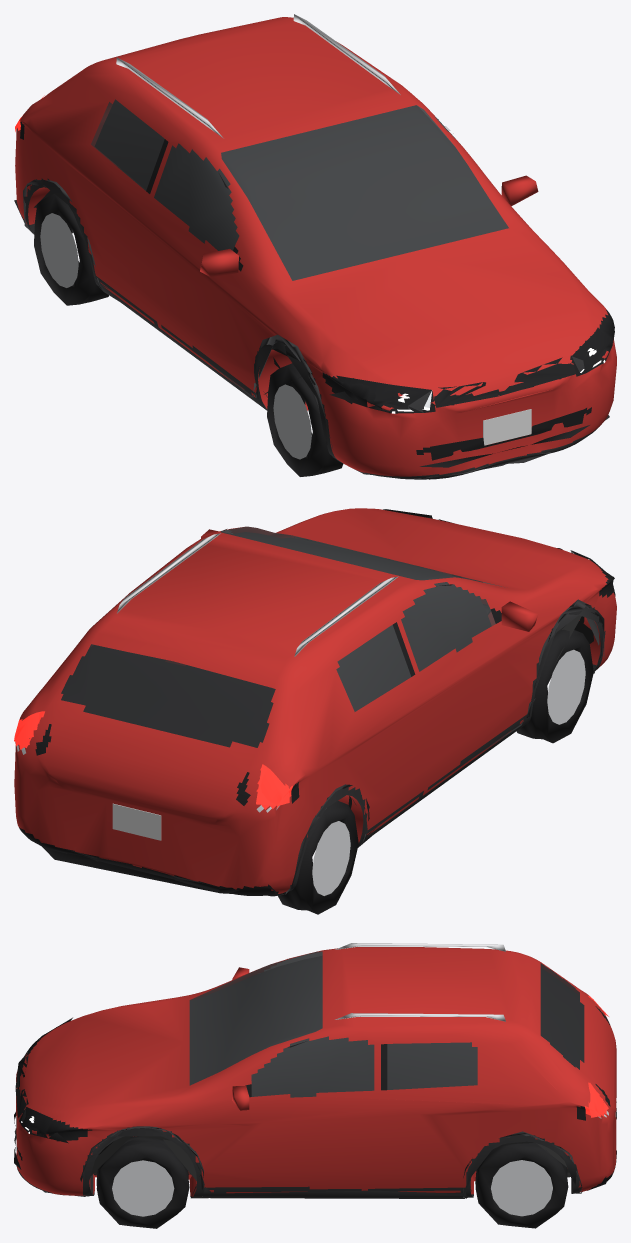
Rendered from compactHatchCross-lod2.glb.
3 views of the same model, one above another, from view 1: azimuth 30°, elevation 25°; view 2: azimuth 150°, elevation 25°; view 3: azimuth 270°, elevation 25° (orthographic). The views are drawn at different scales.
Parts seen in each view (by area): view 1: Body, Body_Lining, Body_Trim, Wheel_FR_Tyre, Wheel_RR_Tyre, Wheel_FR_Face, Wheel_RR_Face, PlateFront, Mirror_R_Housing, Mirror_L_Housing, RoofRail_R, RoofRail_L (+1 smaller); view 2: Body, Body_Lining, Body_Trim, Wheel_FR_Tyre, Wheel_RR_Tyre, Wheel_RR_Face, Wheel_FR_Face, PlateRear, Mirror_R_Housing, RoofRail_L, RoofRail_R, ArchCladdingEdgeF_R.000; view 3: Body, Body_Lining, Body_Trim, Wheel_FL_Tyre, Wheel_RL_Tyre, Wheel_RL_Face, Wheel_FL_Face, Arch_F_L_Liner, RoofRail_R, RoofRail_L, ArchCladdingEdgeF_L.000.
Part boxes in pixels (left/top/right/bottom): Body: left=15, top=17, right=616, bottom=479; Body_Lining: left=95, top=100, right=508, bottom=280; Body_Trim: left=14, top=95, right=614, bottom=479; Wheel_FR_Tyre: left=267, top=363, right=343, bottom=476; Wheel_RR_Tyre: left=34, top=194, right=108, bottom=305; Wheel_FR_Face: left=273, top=384, right=311, bottom=459; Wheel_RR_Face: left=40, top=213, right=78, bottom=287; PlateFront: left=483, top=409, right=531, bottom=445; Mirror_R_Housing: left=200, top=249, right=238, bottom=277; Mirror_L_Housing: left=501, top=175, right=538, bottom=206; RoofRail_R: left=116, top=57, right=223, bottom=138; RoofRail_L: left=293, top=14, right=400, bottom=94; Body: left=14, top=508, right=616, bottom=895; Body_Lining: left=63, top=532, right=490, bottom=746; Body_Trim: left=14, top=509, right=615, bottom=896; Wheel_FR_Tyre: left=516, top=629, right=593, bottom=743; Wheel_RR_Tyre: left=278, top=801, right=358, bottom=914; Wheel_RR_Face: left=312, top=821, right=350, bottom=895; Wheel_FR_Face: left=547, top=649, right=585, bottom=724; PlateRear: left=112, top=803, right=161, bottom=840; Mirror_R_Housing: left=501, top=601, right=538, bottom=631; RoofRail_L: left=117, top=533, right=220, bottom=613; RoofRail_R: left=294, top=576, right=398, bottom=656; ArchCladdingEdgeF_R.000: left=527, top=599, right=604, bottom=714; Body: left=16, top=947, right=616, bottom=1198; Body_Lining: left=190, top=956, right=583, bottom=1097; Body_Trim: left=14, top=996, right=616, bottom=1198; Wheel_FL_Tyre: left=96, top=1136, right=189, bottom=1228; Wheel_RL_Tyre: left=475, top=1143, right=568, bottom=1228; Wheel_RL_Face: left=491, top=1160, right=552, bottom=1216; Wheel_FL_Face: left=112, top=1160, right=174, bottom=1216; Arch_F_L_Liner: left=91, top=1136, right=196, bottom=1180; RoofRail_R: left=335, top=943, right=505, bottom=951; RoofRail_L: left=335, top=1013, right=505, bottom=1021; ArchCladdingEdgeF_L.000: left=80, top=1126, right=203, bottom=1196.
Bounding box in the file's own units: 2.13 × 1.48 × 4.08.
